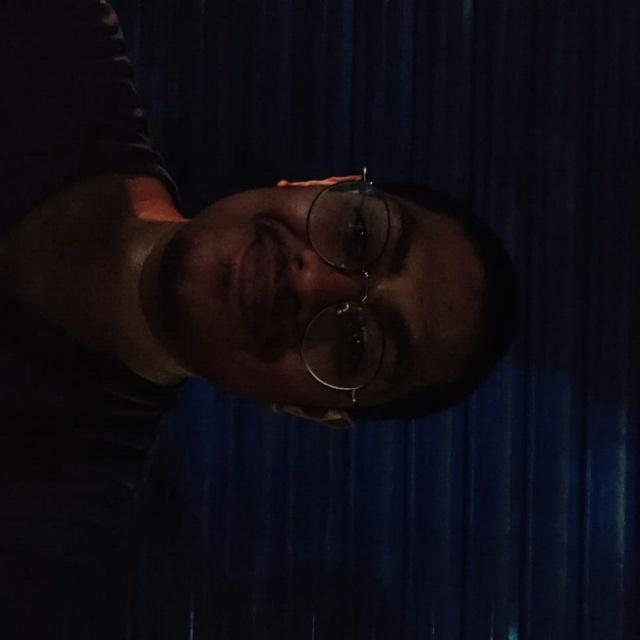Happy: (145, 146, 524, 492)
